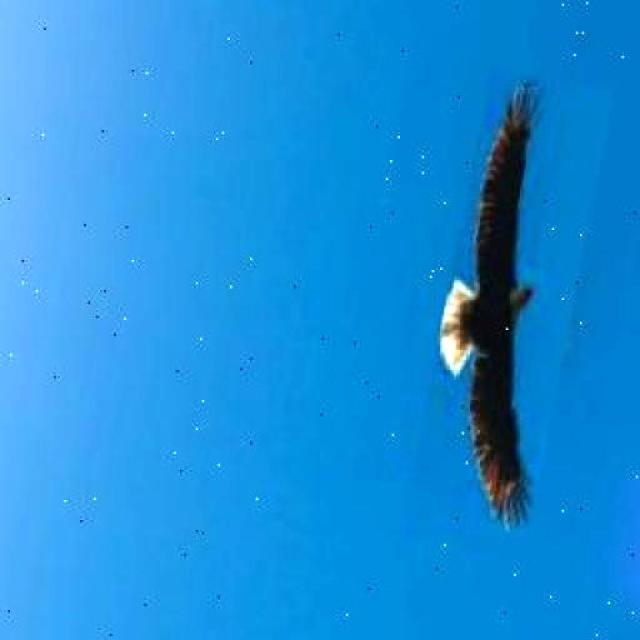airplane: (405, 68, 615, 536)
